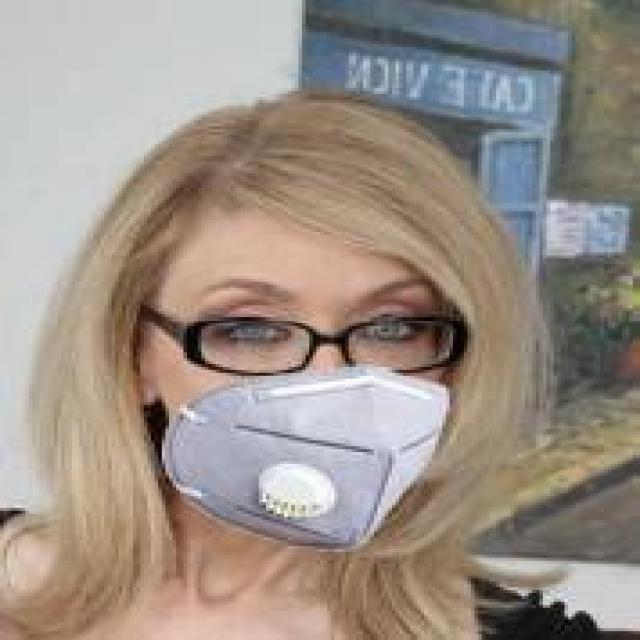mask: (69, 32, 528, 572)
